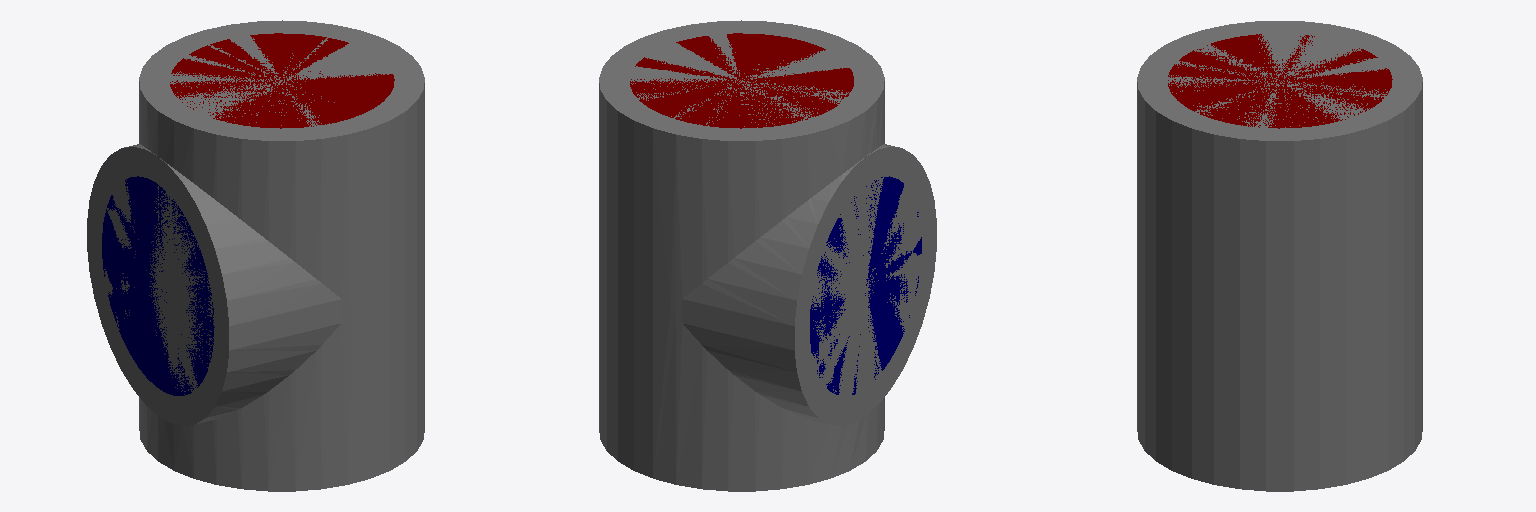
robot.urdf — jointT-m.SLDASM:
<?xml version="1.0" encoding="utf-8"?>
<!-- This URDF was automatically created by SolidWorks to URDF Exporter! Originally created by [author] ([email redacted]) 
     Commit Version: 1.6.0-4-g7f85cfe  Build Version: 1.6.7995.38578
     For more information, please see http://wiki.ros.org/sw_urdf_exporter -->
<robot
  name="jointT-m.SLDASM">
  <link
    name="tj_out">
    <inertial>
      <origin
        xyz="-0.0020588 8.3685E-09 -0.0635"
        rpy="0 0 0" />
      <mass
        value="0.93066" />
      <inertia
        ixx="0.0017462"
        ixy="8.3821E-10"
        ixz="1.078E-20"
        iyy="0.0017615"
        iyz="-1.9911E-10"
        izz="0.0011044" />
    </inertial>
    <visual>
      <origin
        xyz="0 0 0"
        rpy="0 0 0" />
      <geometry>
        <mesh
          filename="package://jointT-m.SLDASM/meshes/tj_out.STL" />
      </geometry>
      <material
        name="red">
        <color
          rgba="0.5 0 0 1" />
      </material>
    </visual>
    <collision>
      <origin
        xyz="0 0 0"
        rpy="0 0 0" />
      <geometry>
        <mesh
          filename="package://jointT-m.SLDASM/meshes/tj_out.STL" />
      </geometry>
    </collision>
  </link>
  <link
    name="tj_body">
    <inertial>
      <origin
        xyz="-0.0020574 -5.8806E-08 -0.0635"
        rpy="0 0 0" />
      <mass
        value="0.93065" />
      <inertia
        ixx="0.0017462"
        ixy="8.3821E-10"
        ixz="1.078E-20"
        iyy="0.0017615"
        iyz="-1.9911E-10"
        izz="0.0011044" />
    </inertial>
    <visual>
      <origin
        xyz="0 0 0"
        rpy="0 0 0" />
      <geometry>
        <mesh
          filename="package://jointT-m.SLDASM/meshes/tj_body.STL" />
      </geometry>
      <material
        name="body">
        <color
          rgba="0.5 0.5 0.5 1" />
      </material>
    </visual>
    <collision>
      <origin
        xyz="0 0 0"
        rpy="0 0 0" />
      <geometry>
        <mesh
          filename="package://jointT-m.SLDASM/meshes/tj_body.STL" />
      </geometry>
    </collision>
  </link>
  <joint
    name="tj_medium_1"
    type="revolute">
    <origin
      xyz="0 0 0"
      rpy="0 0 0" />
    <parent
      link="tj_out" />
    <child
      link="tj_body" />
    <axis
      xyz="0 0 1" />
    <limit
      lower="-3.1416"
      upper="3.1416"
      effort="25.5"
      velocity="0.33" />
  </joint>
  <link
    name="tj_in">
    <inertial>
      <origin
        xyz="-6.5585E-18 8.3685E-09 0.044941"
        rpy="0 0 0" />
      <mass
        value="0.93066" />
      <inertia
        ixx="0.0011044"
        ixy="1.9911E-10"
        ixz="1.0711E-19"
        iyy="0.0017615"
        iyz="8.3821E-10"
        izz="0.0017462" />
    </inertial>
    <visual>
      <origin
        xyz="0 0 0"
        rpy="0 0 0" />
      <geometry>
        <mesh
          filename="package://jointT-m.SLDASM/meshes/tj_in.STL" />
      </geometry>
      <material
        name="blue">
        <color
          rgba="0 0 0.5 1" />
      </material>
    </visual>
    <collision>
      <origin
        xyz="0 0 0"
        rpy="0 0 0" />
      <geometry>
        <mesh
          filename="package://jointT-m.SLDASM/meshes/tj_in.STL" />
      </geometry>
    </collision>
  </link>
  <joint
    name="tj_medium_2"
    type="fixed">
    <origin
      xyz="-0.047 0 -0.0635"
      rpy="0 1.5707963267949 0" />
    <parent
      link="tj_body" />
    <child
      link="tj_in" />
    <axis
      xyz="0 -1 0" />
  </joint>
</robot>

--- What the picture shows (computed from the rendered views, not written in the file) ---
Views: 3 orthographic renders of the robot side by side, from view 1: azimuth 30°, elevation 25°; view 2: azimuth 150°, elevation 25°; view 3: azimuth 270°, elevation 25°.
Robot: jointT-m.SLDASM — 3 links, 2 joints (1 revolute, 1 fixed); root link tj_out; default pose: all joints at 0.
Visible links, largest first — view 1: tj_body, tj_out, tj_in; view 2: tj_body, tj_out, tj_in; view 3: tj_body, tj_out.
Boxes of the visible links, x1,y1,x2,y2 form: tj_body: (87, 20, 424, 491); tj_out: (170, 33, 394, 128); tj_in: (102, 176, 214, 395); tj_body: (599, 20, 936, 491); tj_out: (630, 33, 853, 128); tj_in: (810, 176, 921, 394); tj_body: (1137, 21, 1422, 491); tj_out: (1168, 34, 1392, 128).
Bounding box of the posed robot: 0.0938 × 0.094 × 0.127 m (x, y, z).
Meshes: 3 distinct files referenced, 3 mesh visuals loaded (3 binary STL).